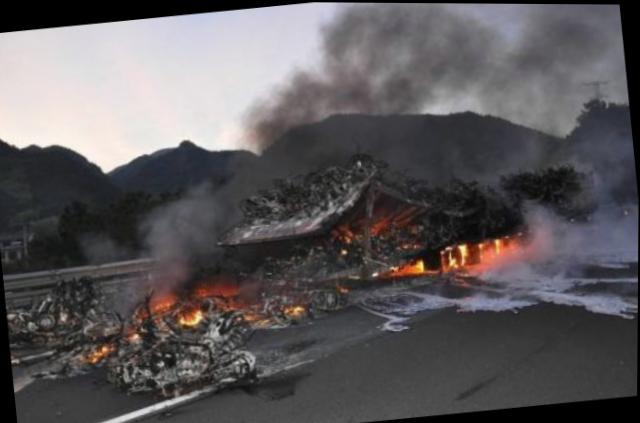fire: (111, 277, 240, 346), (384, 221, 532, 280)
